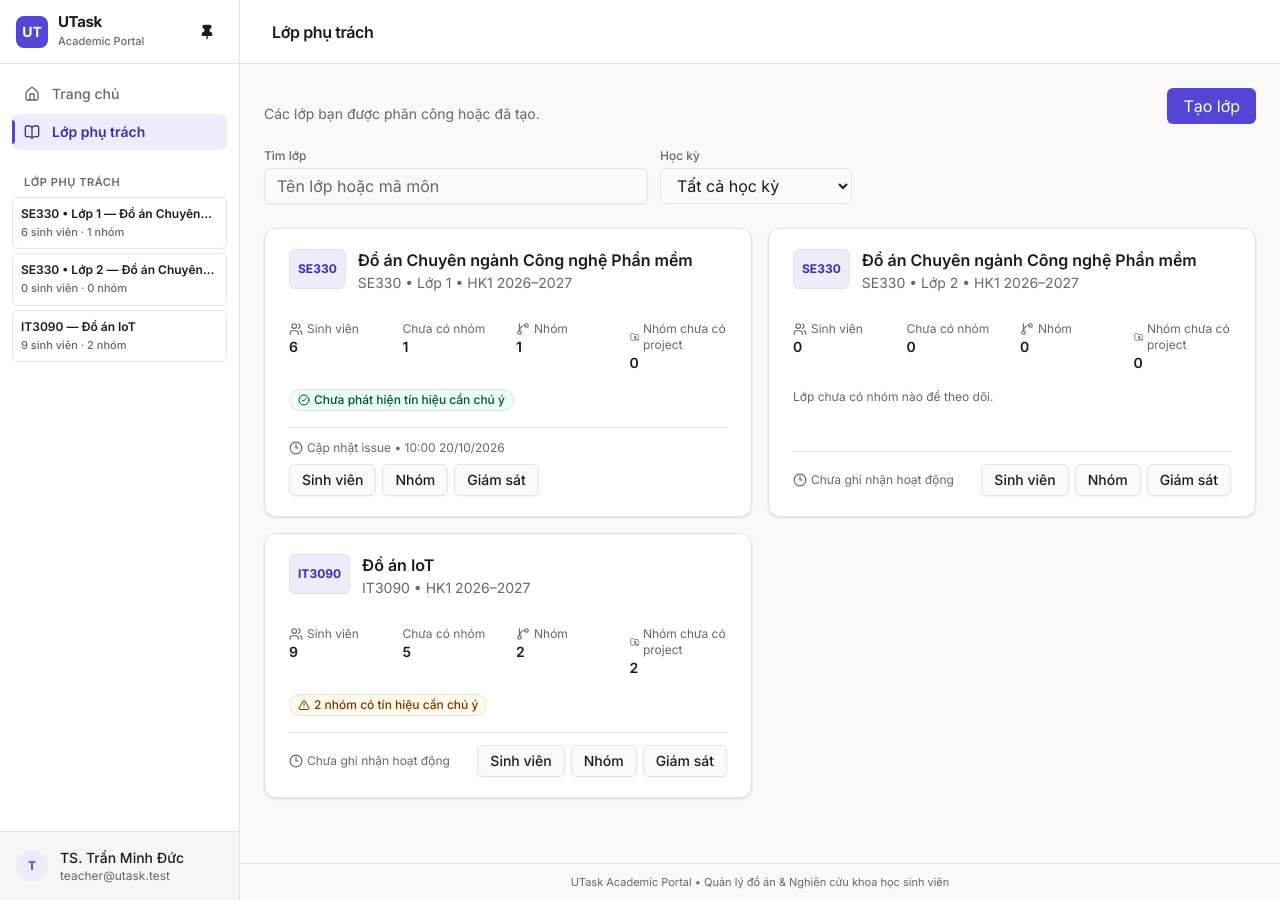
Scenario: Create class dialog (T03, demo mode) › says plainly that the class cannot be created yet, with the button disabled and described
Click the button "Tạo lớp".
click(1212, 106)  # box [1167, 88, 1256, 124]
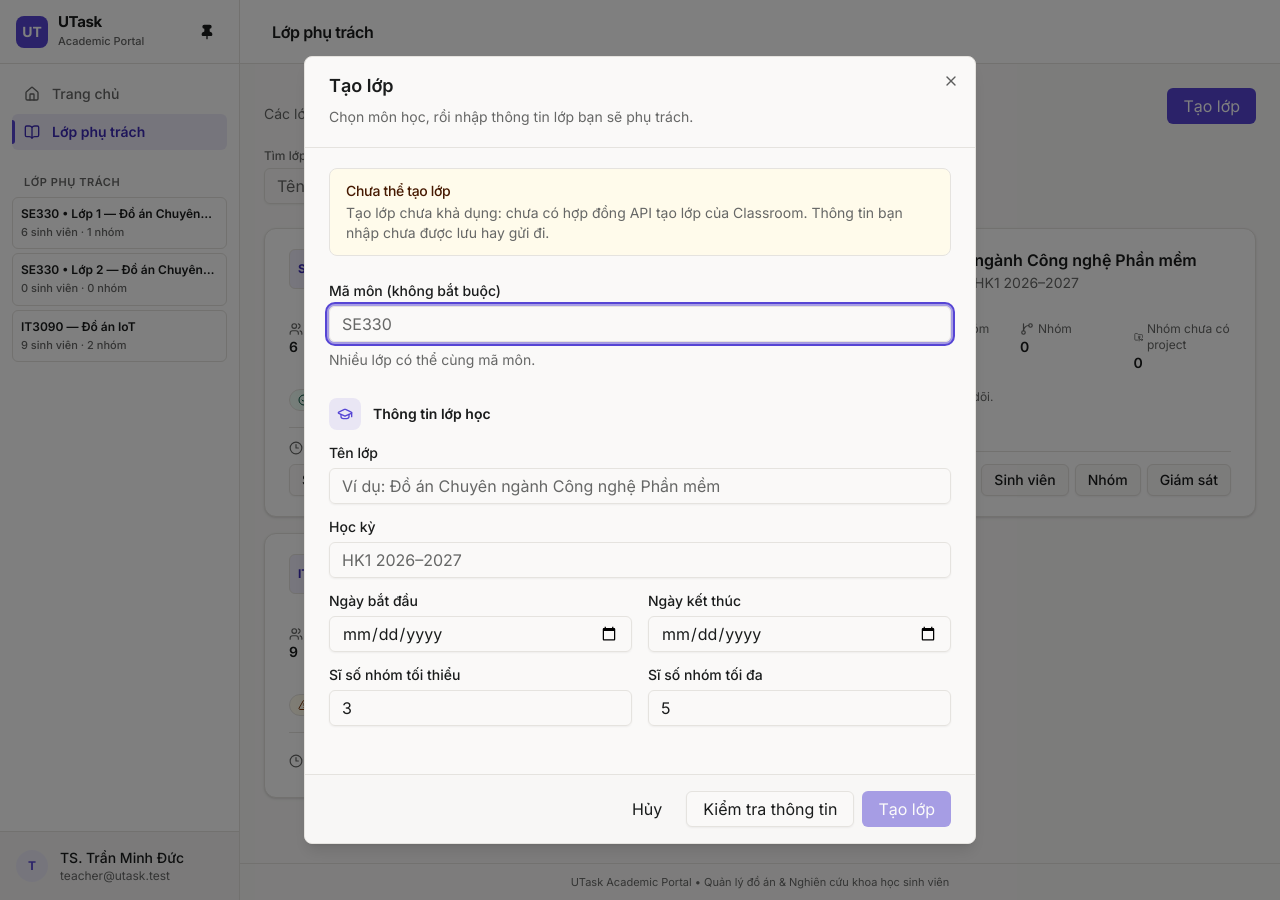
Expected: the text "Chưa thể tạo lớp" is shown, [346, 182, 450, 199]
